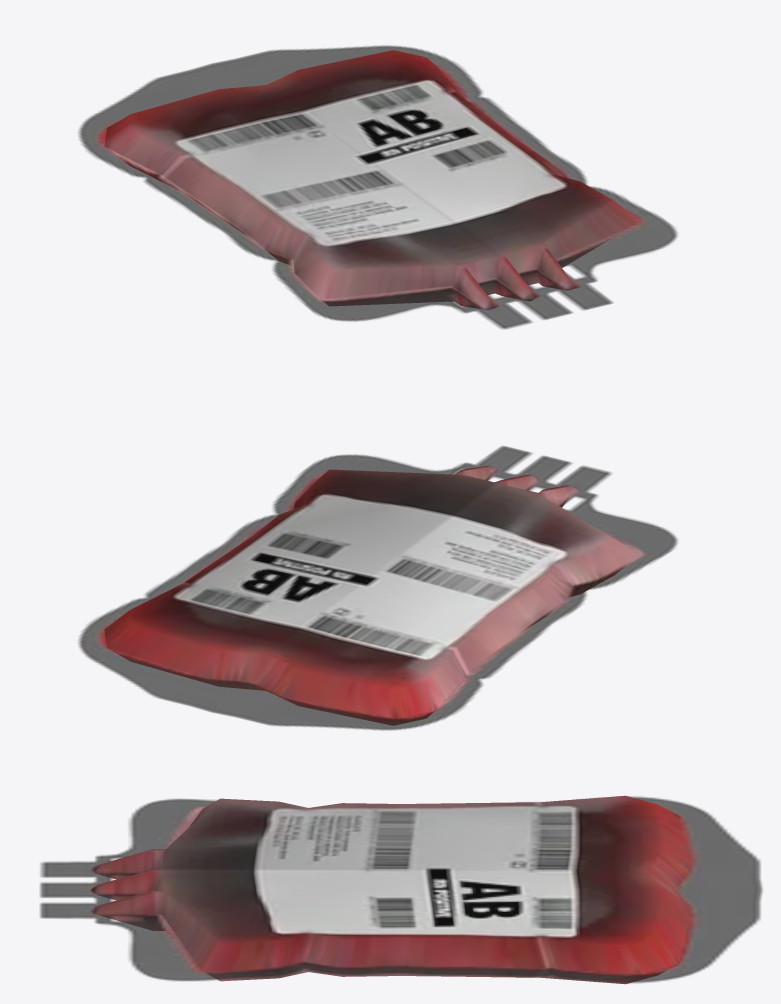
File: blood_sample.glb
3 renders of one model, top to bottom at view 1: azimuth 30°, elevation 25°; view 2: azimuth 150°, elevation 25°; view 3: azimuth 270°, elevation 25°, orthographic. The views are drawn at different scales.
Visible parts, largest first — view 1: T_BloodPack_T_BloodPack_0; view 2: T_BloodPack_T_BloodPack_0; view 3: T_BloodPack_T_BloodPack_0.
Part boxes in pixels (bbox=[...]): T_BloodPack_T_BloodPack_0: bbox=[78, 45, 677, 329]; T_BloodPack_T_BloodPack_0: bbox=[78, 446, 677, 730]; T_BloodPack_T_BloodPack_0: bbox=[40, 795, 762, 984].
Bounding box in the file's own units: 0.1 × 0.00876 × 0.1595.
Materials: 1 (1 with a texture image).
